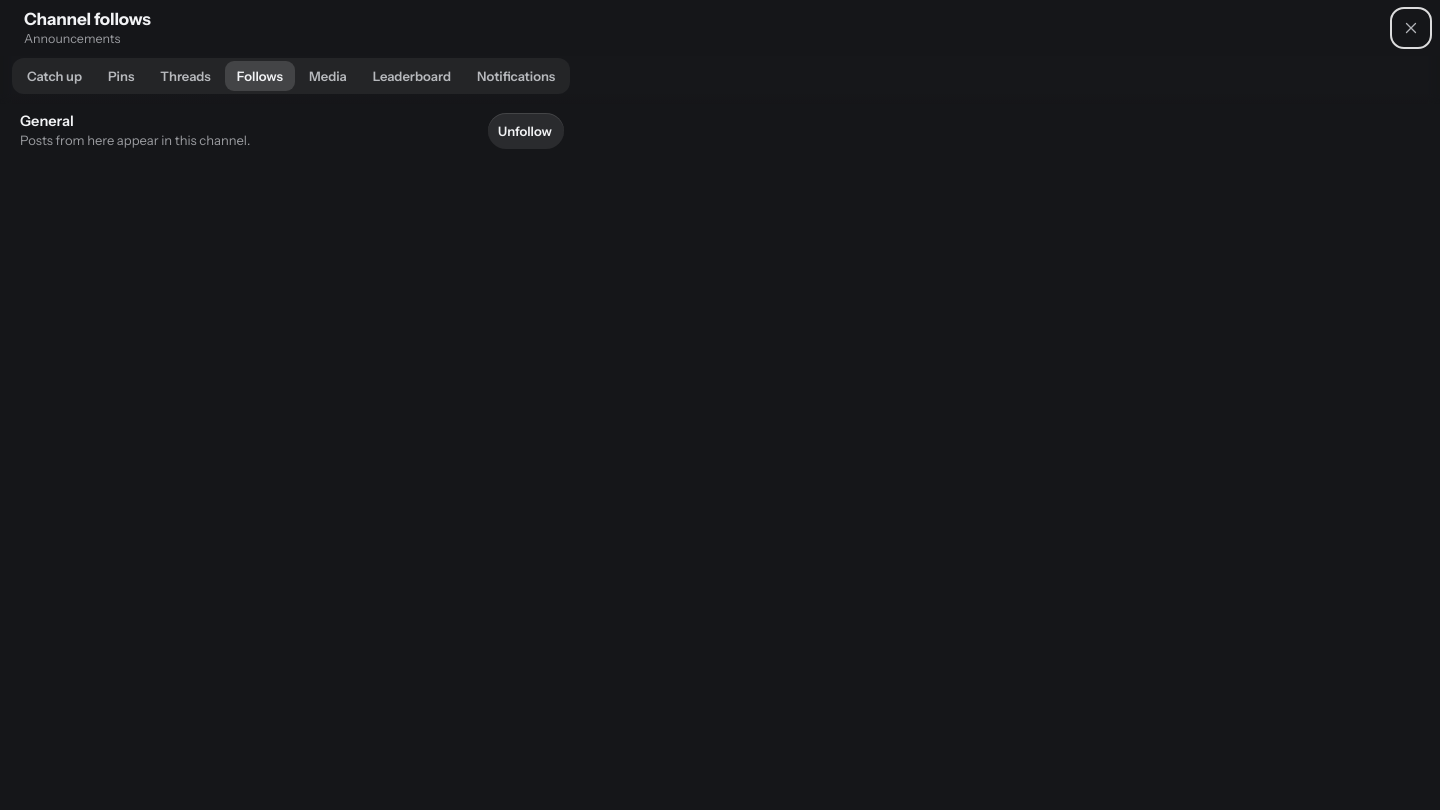
Test: channel follows › says why a change failed, in words
The width and height of the screenshot is (1440, 810).
Step 1. Click the button "Unfollow" → [526, 131], box [488,113,564,149]
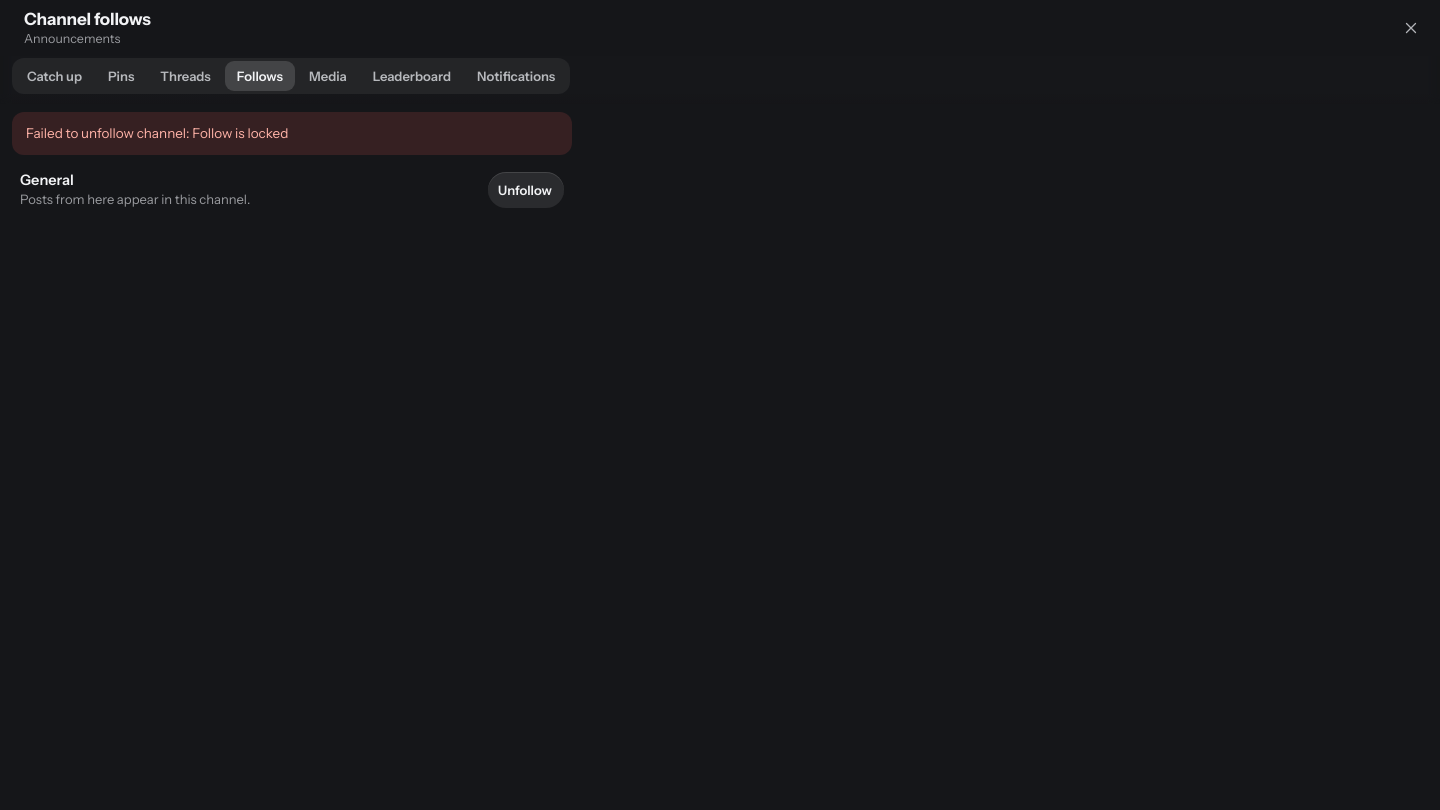
Check: the message shows "Failed to unfollow channel", box [26,125,288,141]
